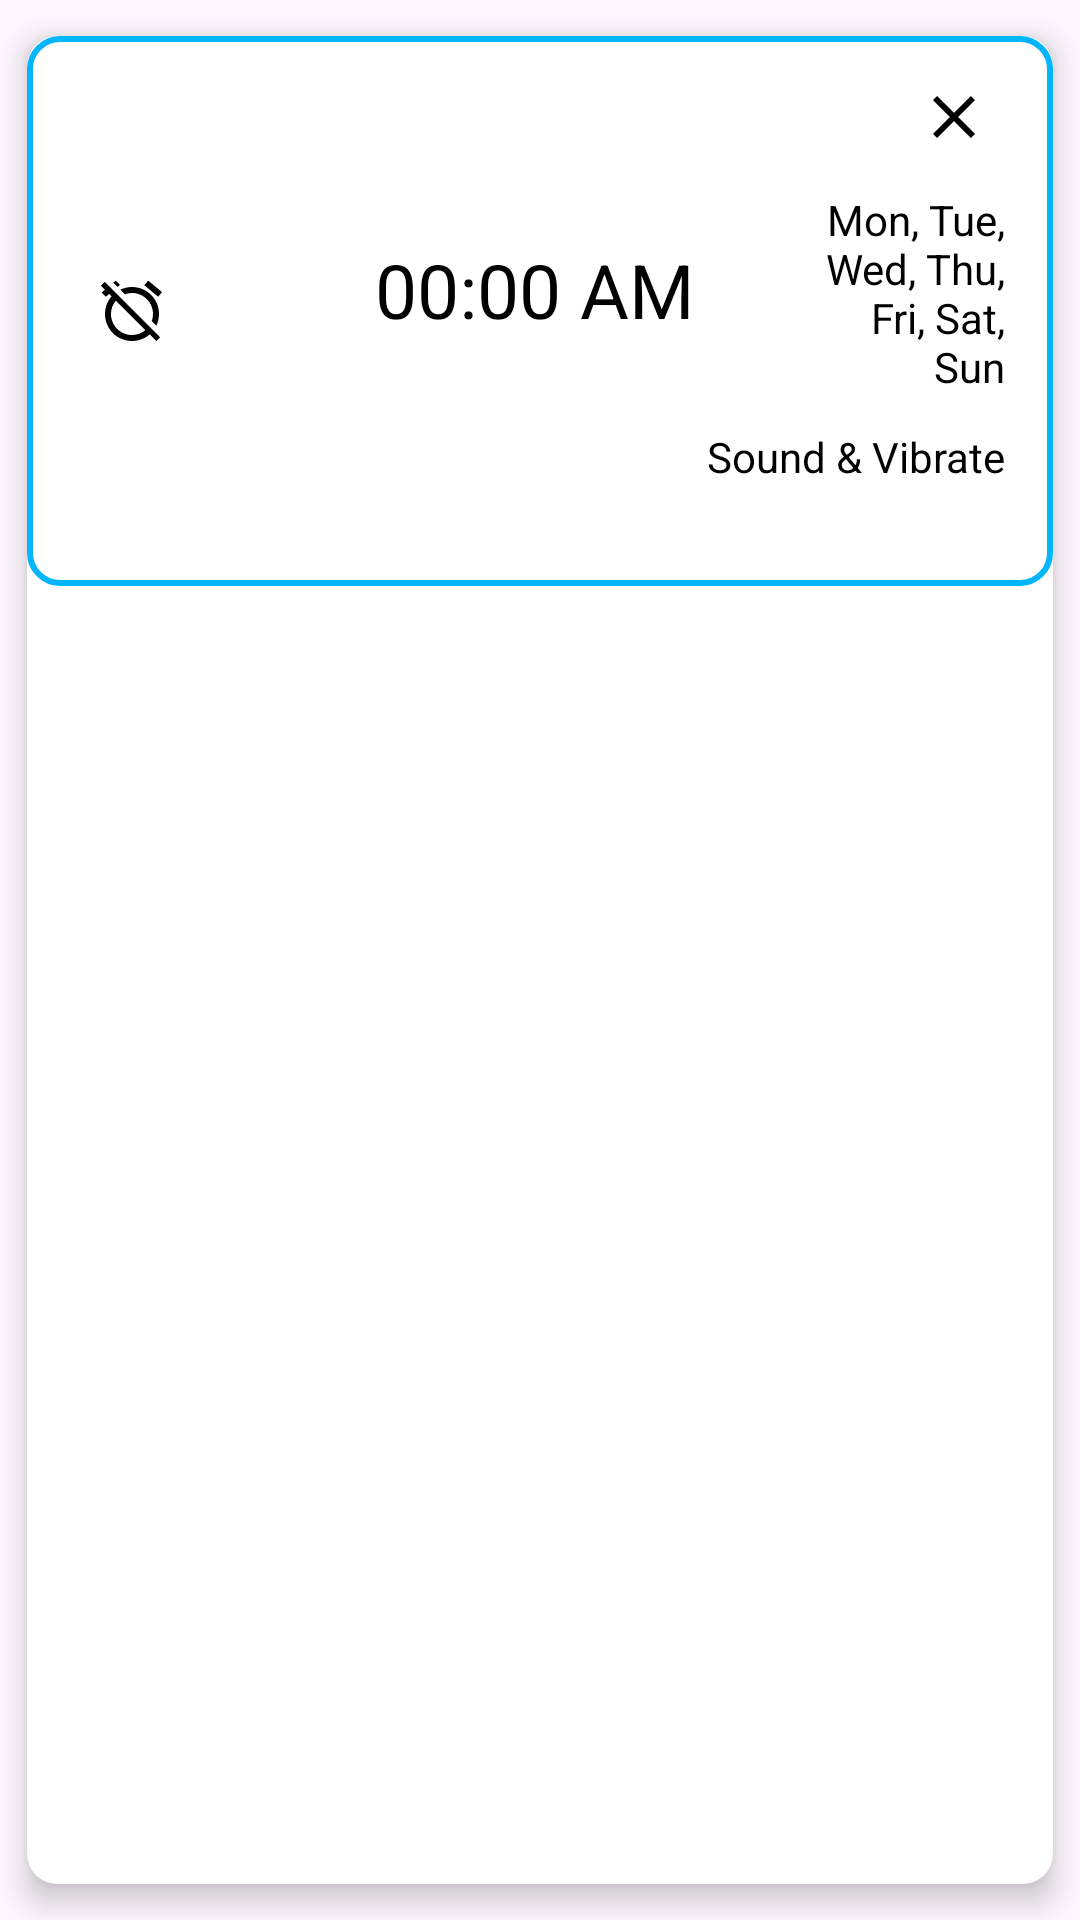

Icons on this 1080 x 1920 Android screen, each with its box as (x1, y1, x2, y2):
alarm delete: (933, 96, 975, 138)
alarm off: (101, 280, 162, 341)
